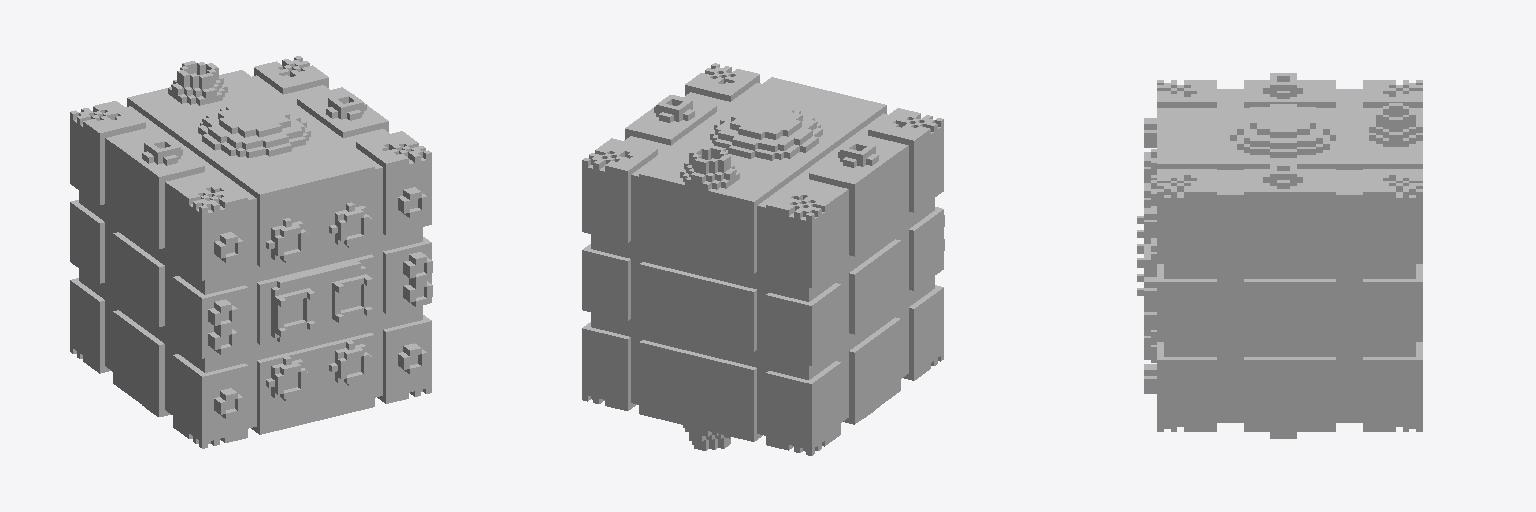
Rendered from The Eye 2.0.obj.
3 renders of one model, left to right at view 1: azimuth 30°, elevation 25°; view 2: azimuth 150°, elevation 25°; view 3: azimuth 270°, elevation 25°, orthographic.
Visible parts, largest first — view 1: The Eye 2.0; view 2: The Eye 2.0; view 3: The Eye 2.0.
Part boxes in pixels (x1,y1,x2,y2): The Eye 2.0: (70,56,432,448); The Eye 2.0: (582,63,944,455); The Eye 2.0: (1137,73,1422,438).
Size of the model in its own units: 40 by 48 by 43.